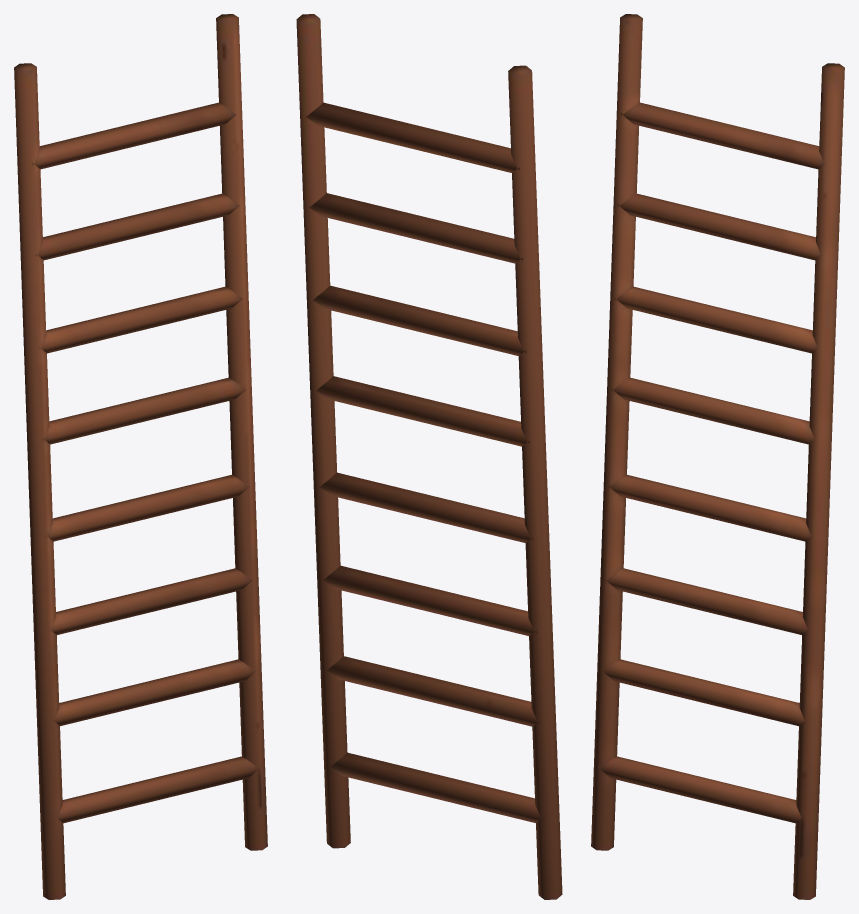
Rendered from radder.glb.
3 renders of one model, left to right at view 1: azimuth 30°, elevation 25°; view 2: azimuth 150°, elevation 25°; view 3: azimuth 330°, elevation 25°, orthographic. The views are drawn at different scales.
Parts seen in each view (by area): view 1: radder.001; view 2: radder.001; view 3: radder.001.
Part boxes in pixels (box(x1,y1,x2,y2)): radder.001: box(14, 14, 267, 899); radder.001: box(296, 14, 562, 899); radder.001: box(591, 14, 844, 899).
Bounding box in the file's own units: 0.5026 × 1.77 × 0.1606.
1 material, 1 textured.
